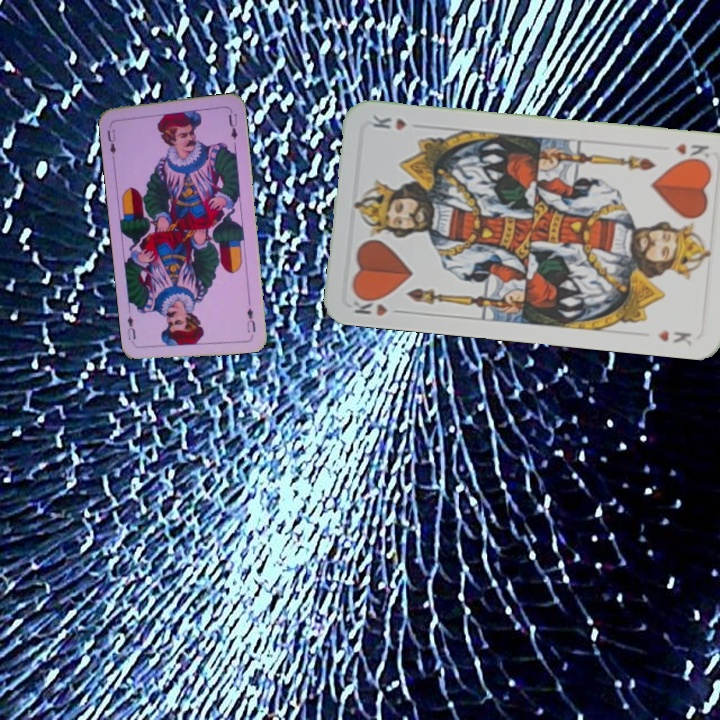EU: (103, 120, 119, 161), (243, 296, 258, 335)
HK: (348, 290, 407, 319), (671, 140, 712, 166)
